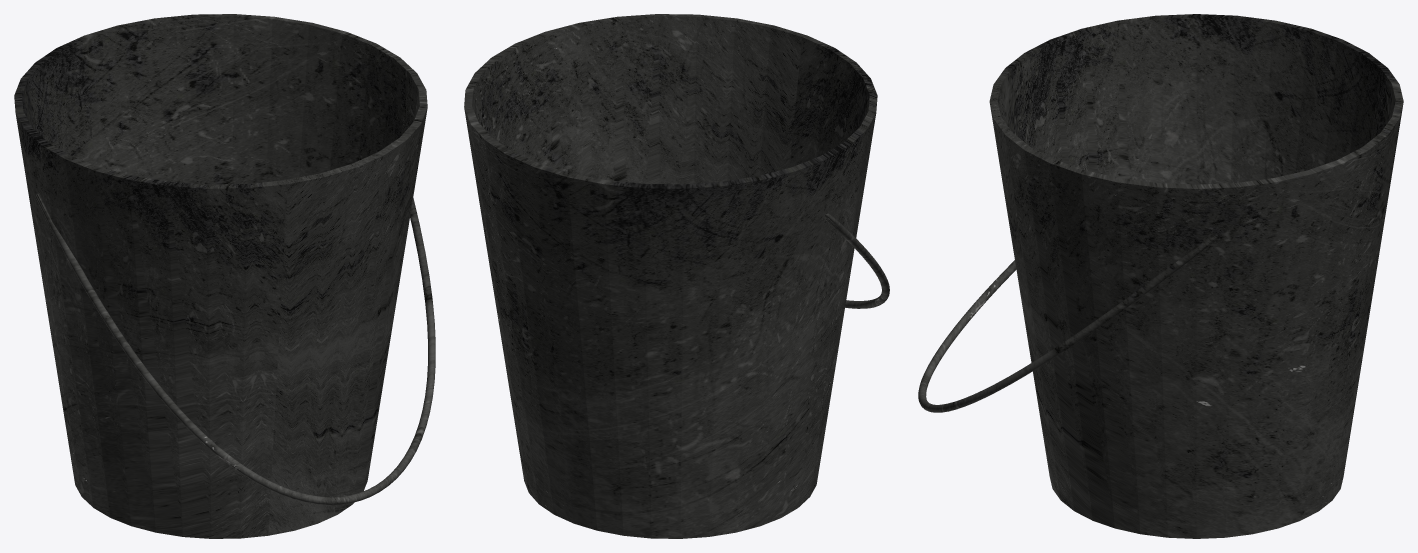
File: envi9.fbx
3 views of the same model, side by side, from view 1: azimuth 30°, elevation 25°; view 2: azimuth 150°, elevation 25°; view 3: azimuth 270°, elevation 25° (orthographic).
Parts seen in each view (by area): view 1: NurbsPath; view 2: NurbsPath; view 3: NurbsPath.
Boxes of the visible parts, x1,y1,x2,y2 form: NurbsPath: (14, 14, 435, 538); NurbsPath: (464, 14, 889, 538); NurbsPath: (918, 14, 1403, 538).
Bounding box in the file's own units: 104 × 104 × 122.
Materials: 1 (1 with a texture image).
